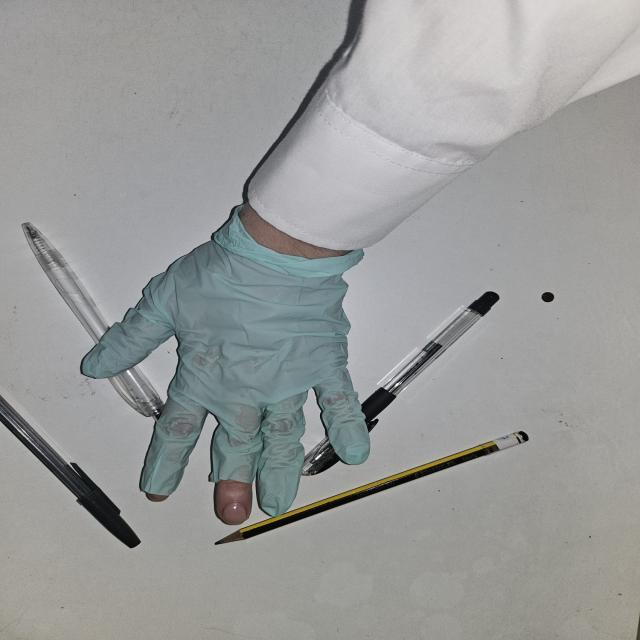gloves_damaged: (76, 213, 374, 526)
